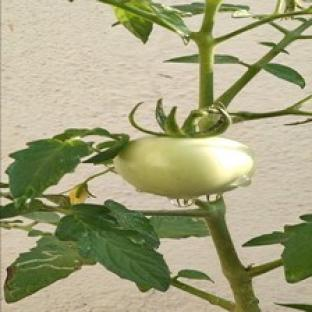Tomato: (115, 137, 254, 199)
